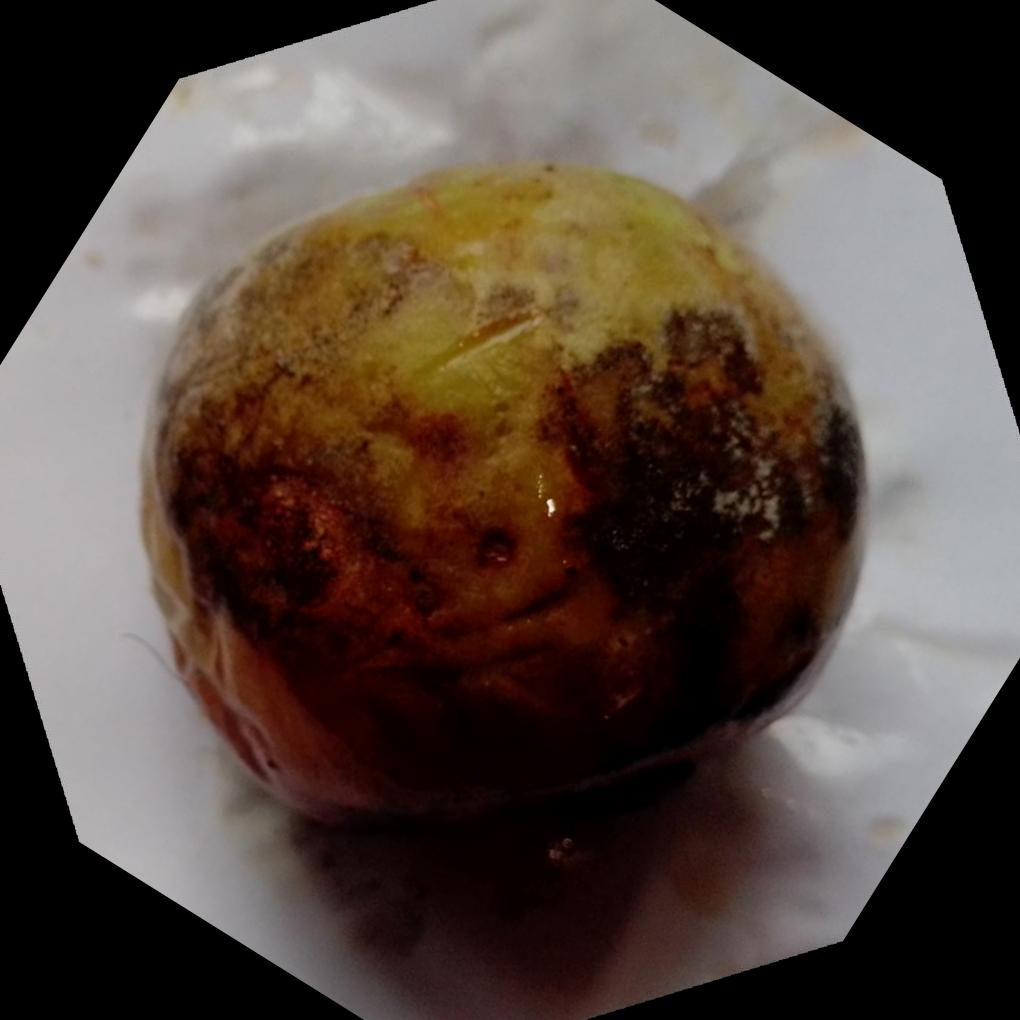FreshOrange: (139, 161, 864, 836)
